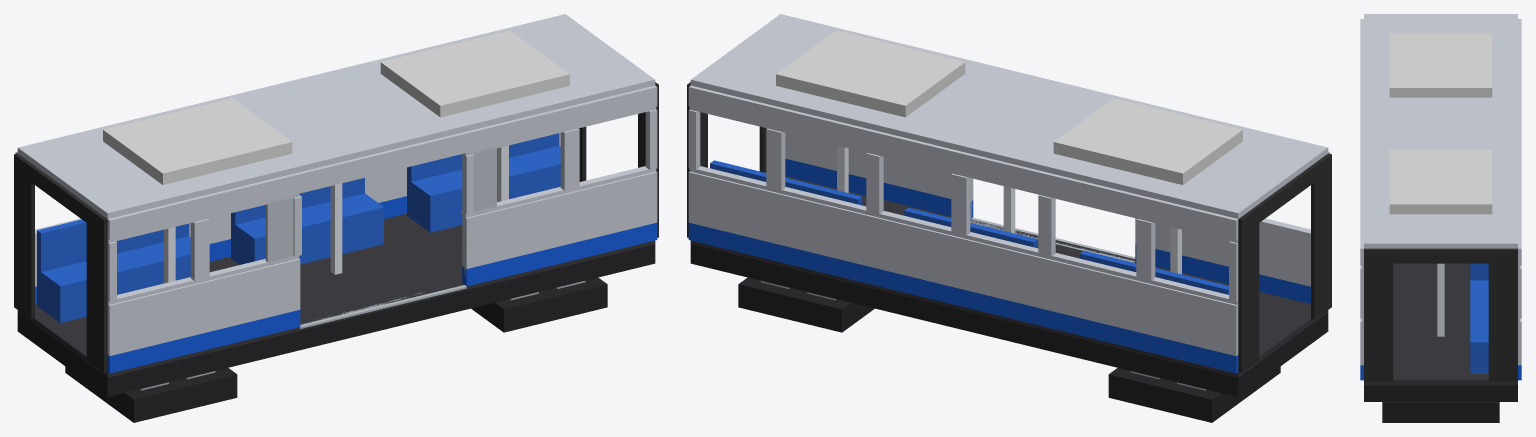
The model's file is metro_wagon_l1.obj.
The picture shows the model from 3 angles, left to right: view 1: azimuth 30°, elevation 25°; view 2: azimuth 150°, elevation 25°; view 3: azimuth 270°, elevation 25°; orthographic projection. The views are drawn at different scales.
Bounding box in the file's own units: 3 × 1.26 × 0.88.
